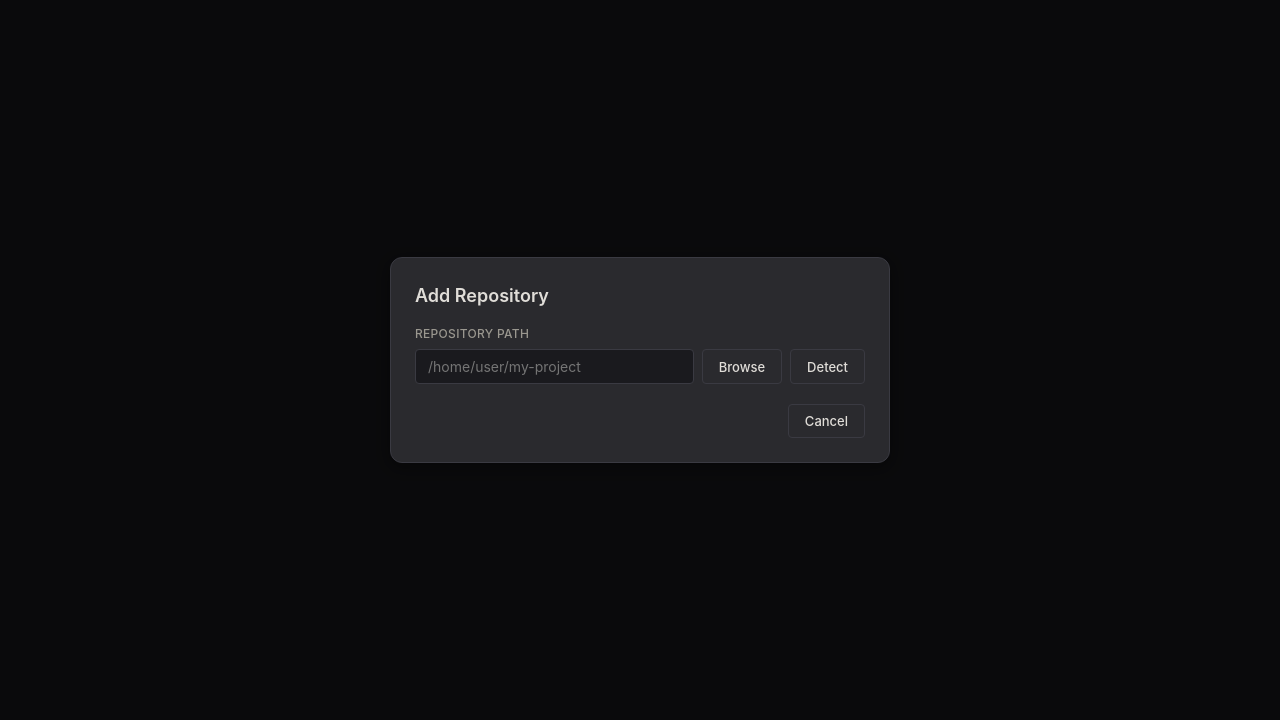
it: AddRepoModal › shows No CLAUDE.md with Generate button when repo lacks one
In the field with placeholder "/home/user/my-project": (554, 366) [415,349,694,384], type "/some/path"
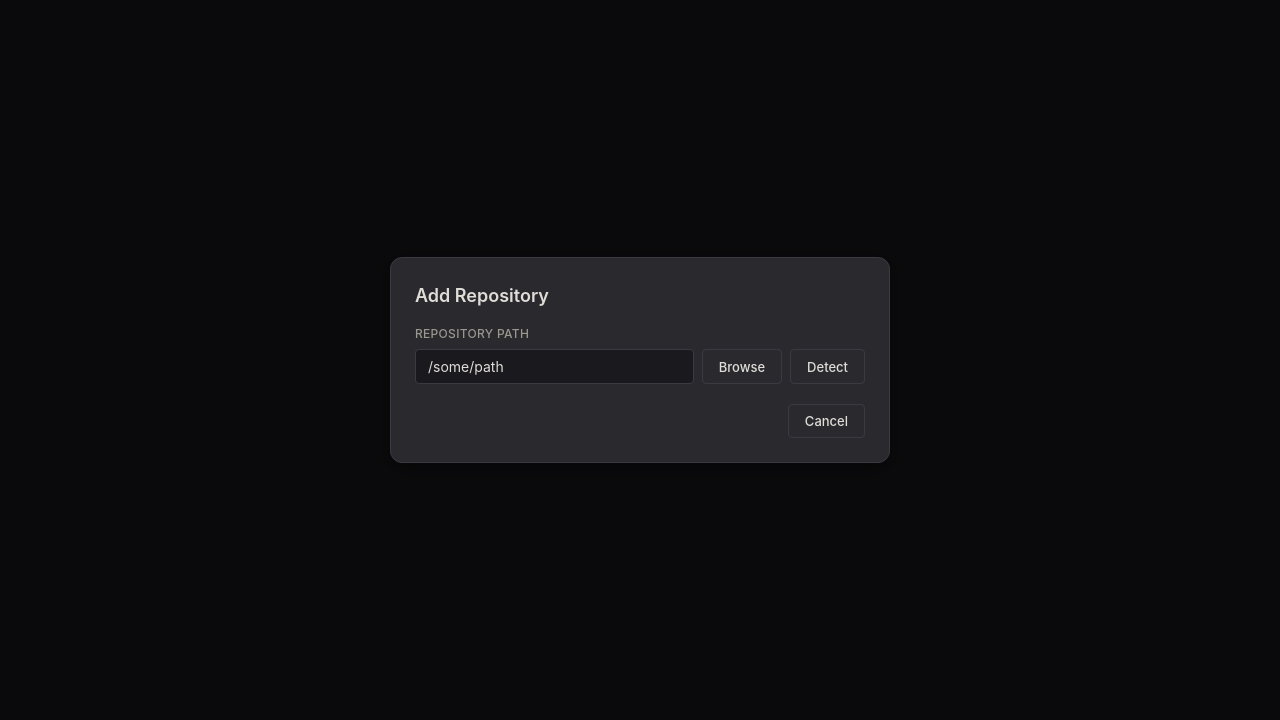
Click the button "Detect": (828, 366) [790,349,865,384]
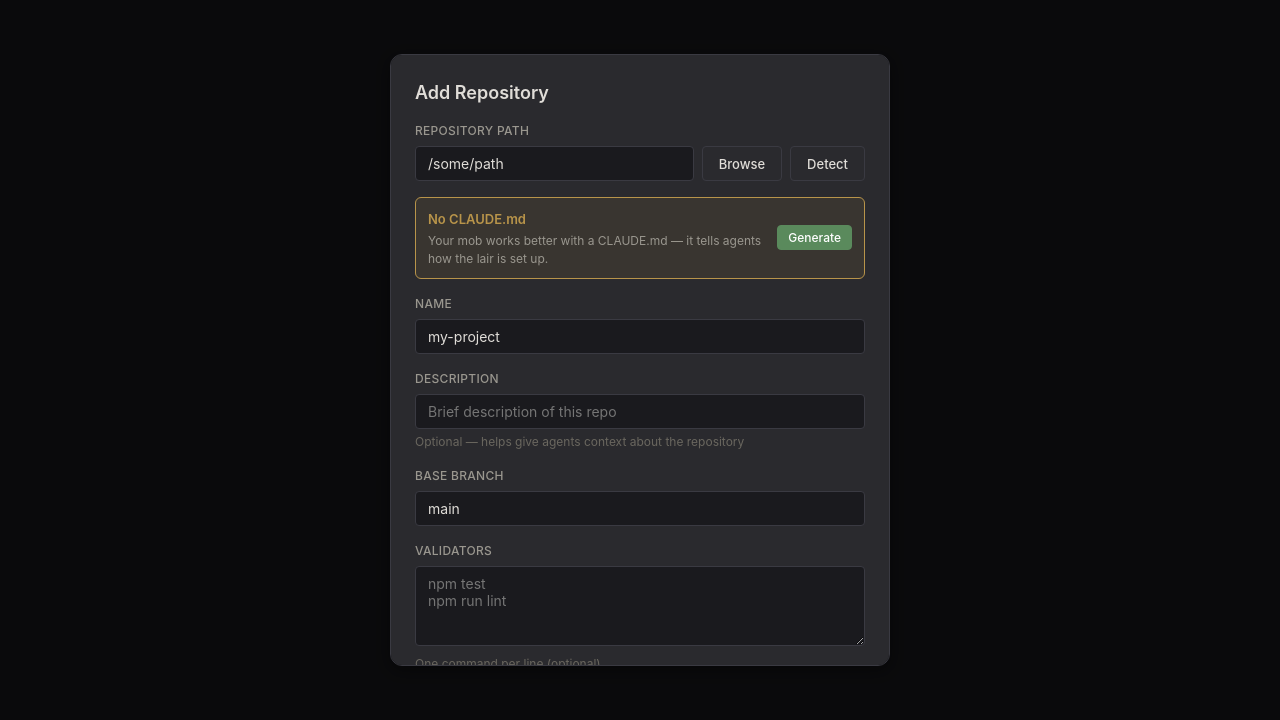
Result: the text "No CLAUDE.md" is shown at [428,211,526,227]
Result: the button "Generate" is shown at [777,225,852,250]
